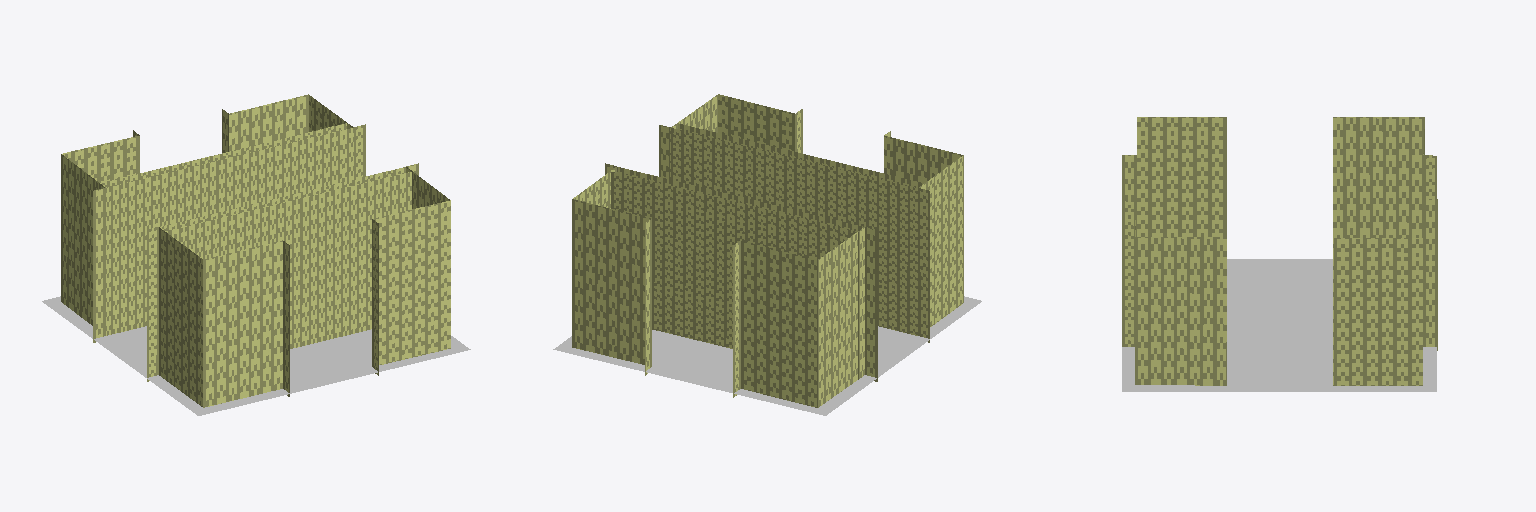
3 views of the same model, side by side, from view 1: azimuth 30°, elevation 25°; view 2: azimuth 150°, elevation 25°; view 3: azimuth 270°, elevation 25° (orthographic).
Parts seen in each view (by area): view 1: Cube.003_Cube.004, Cube.004_Cube.001, Cube.004_Cube.002_Cube.004_Cube.001, Cube.002_Cube.004, Cube.001_Cube.004, Plane.004, Cube_Cube.005; view 2: Cube.001_Cube.004, Cube.004_Cube.002_Cube.004_Cube.001, Cube.004_Cube.001, Cube_Cube.005, Cube.003_Cube.004, Plane.004, Cube.002_Cube.004; view 3: Plane.004, Cube.002_Cube.004, Cube_Cube.005, Cube.001_Cube.004, Cube.003_Cube.004.
Part boxes in pixels (x1,y1,x2,y2): Cube.003_Cube.004: (147, 227, 289, 407); Cube.004_Cube.001: (160, 167, 411, 348); Cube.004_Cube.002_Cube.004_Cube.001: (100, 123, 353, 335); Cube.002_Cube.004: (372, 163, 450, 375); Cube.001_Cube.004: (61, 130, 139, 342); Plane.004: (42, 296, 470, 415); Cube_Cube.005: (222, 94, 365, 178); Cube.001_Cube.004: (733, 227, 877, 407); Cube.004_Cube.002_Cube.004_Cube.001: (611, 167, 863, 379); Cube.004_Cube.001: (670, 123, 923, 335); Cube_Cube.005: (572, 163, 651, 375); Cube.003_Cube.004: (884, 131, 963, 342); Plane.004: (553, 296, 981, 415); Cube.002_Cube.004: (659, 94, 802, 178); Plane.004: (1122, 259, 1436, 391); Cube.002_Cube.004: (1122, 199, 1226, 385); Cube_Cube.005: (1333, 199, 1437, 385); Cube.001_Cube.004: (1333, 117, 1436, 237); Cube.003_Cube.004: (1122, 117, 1226, 236).
Size of the model in its own units: 12 by 6.64 by 12.03.
5 materials, 1 textured.